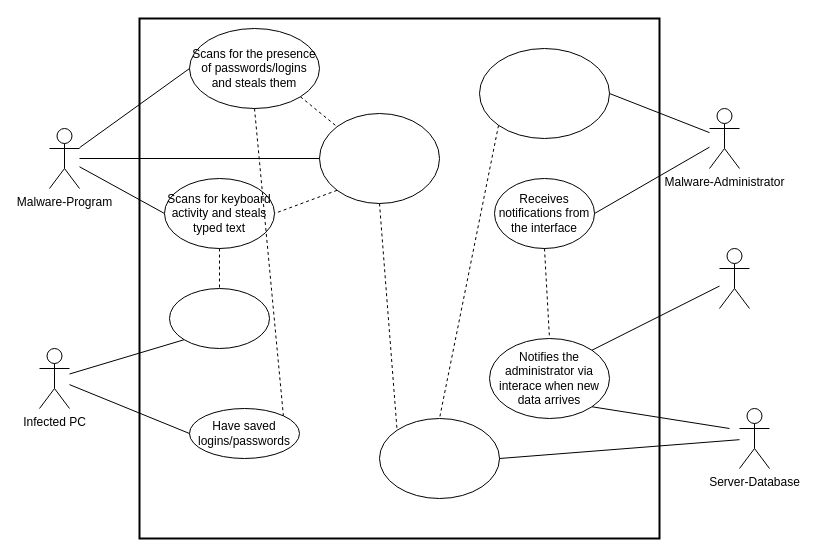
The diagram is 836 pixels wide and 556 high, and some of its shapes have lost their labels. The shapes that lost their labels are listed below. From the top down, each one's centre as x and y in pixels, then its label:
(544,93): Obtains and analyzes data from the database through an interface
(379,158): Hashes logins/passwords and keyboard input and sends to the server
(734,278): Administrator interface program
(219,318): Have keyboard activity
(439,458): Accepts hashed logins/passwords and keyboard input
